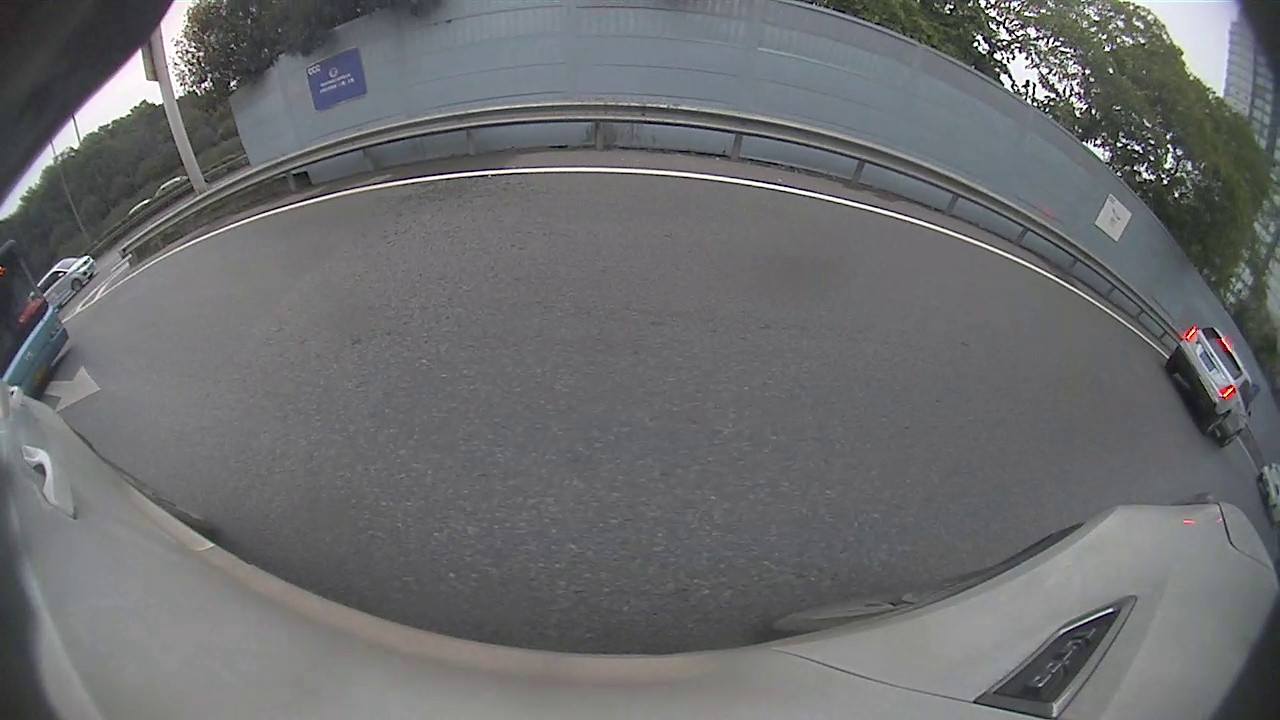bus: (2, 220, 79, 394)
car: (1167, 324, 1249, 445), (38, 255, 97, 306)
front: (1220, 429, 1243, 451), (70, 280, 82, 294)
rear: (1202, 413, 1230, 436)
